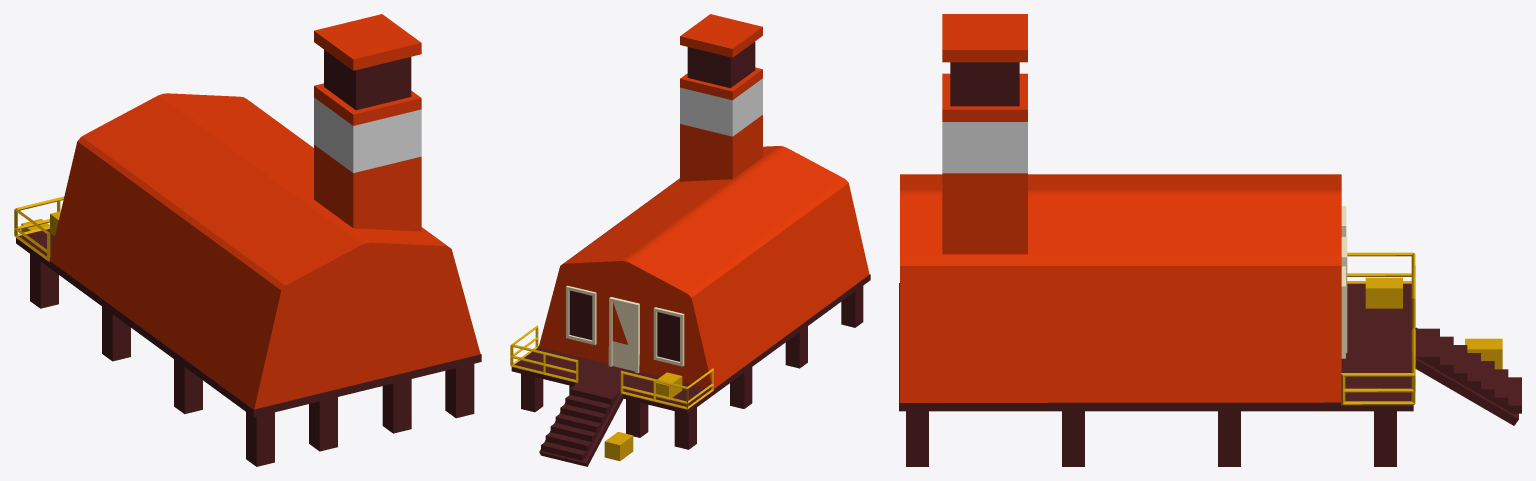
File: main Building.fbx
3 renders of one model, left to right at view 1: azimuth 30°, elevation 25°; view 2: azimuth 150°, elevation 25°; view 3: azimuth 270°, elevation 25°, orthographic. The views are drawn at different scales.
Parts seen in each view (by area): view 1: Cube.045, Cube.066, Cube.046, Cube.065, Cube.048, Cube.060; view 2: Cube.045, Cube.066, Cube.065, Cube.046, Cube.060, Cube.062, Cube.063, Cube.064, Cube.048, Cube.056, Cube.082, Cube.049 (+7 smaller); view 3: Cube.045, Cube.066, Cube.065, Cube.046, Cube.060, Cube.056, Cube.081, Cube.049, Cube.082.
Part boxes in pixels (x1,y1,x2,y2): Cube.045: [49, 93, 480, 409]; Cube.066: [314, 14, 421, 231]; Cube.046: [30, 254, 474, 466]; Cube.065: [16, 228, 481, 417]; Cube.048: [309, 379, 411, 451]; Cube.060: [14, 196, 64, 261]; Cube.045: [538, 146, 869, 388]; Cube.066: [680, 14, 762, 181]; Cube.065: [511, 274, 870, 414]; Cube.046: [521, 286, 863, 449]; Cube.060: [510, 325, 713, 409]; Cube.062: [608, 297, 639, 373]; Cube.063: [653, 307, 684, 366]; Cube.064: [566, 285, 596, 344]; Cube.048: [569, 385, 648, 437]; Cube.056: [539, 382, 623, 466]; Cube.082: [604, 432, 633, 460]; Cube.049: [570, 382, 620, 404]; Cube.045: [900, 174, 1341, 402]; Cube.066: [942, 14, 1027, 254]; Cube.065: [899, 283, 1413, 411]; Cube.046: [906, 411, 1396, 466]; Cube.060: [1341, 252, 1415, 405]; Cube.056: [1415, 327, 1518, 425]; Cube.081: [1365, 277, 1402, 308]; Cube.049: [1415, 328, 1439, 364]; Cube.082: [1465, 338, 1502, 369].
Size of the model in its own units: 850 by 1295 by 1830.
